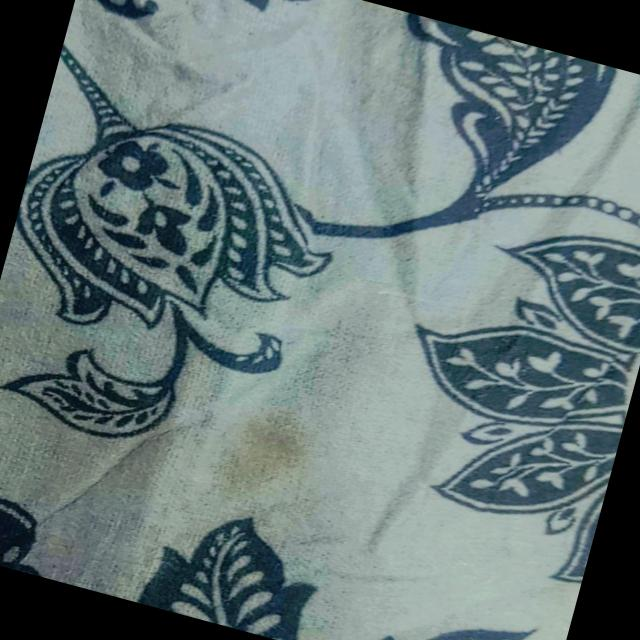stain: (192, 385, 342, 515)
